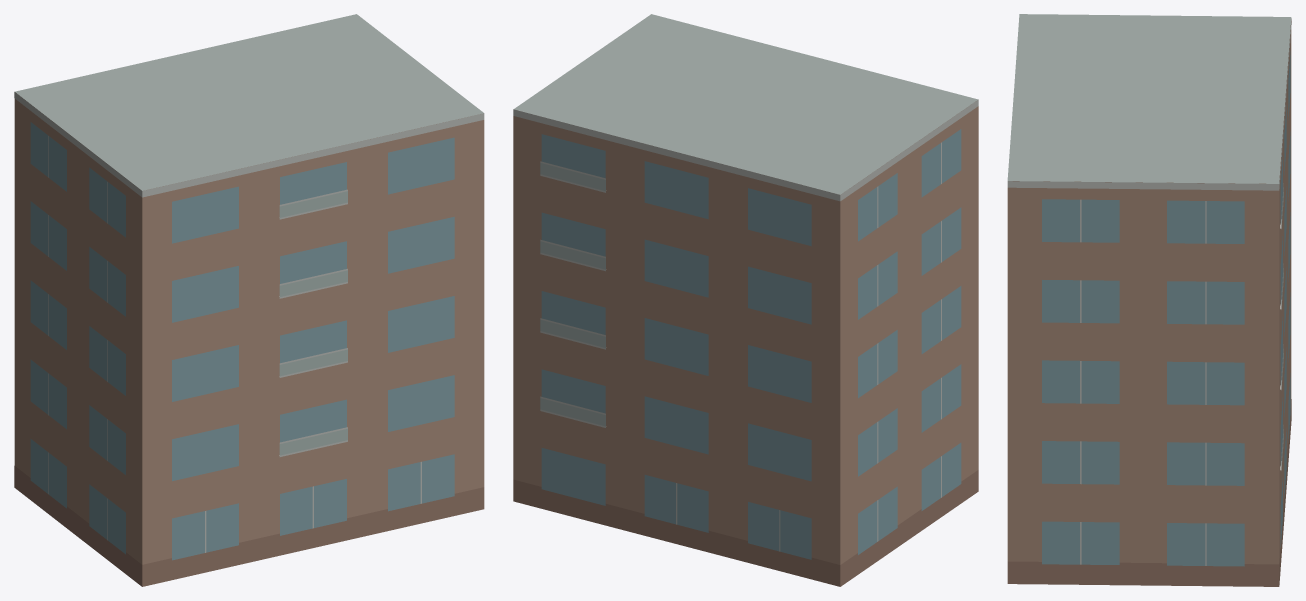
Rendered from survey-upis-32910277.glb.
The picture shows the model from 3 angles, left to right: view 1: azimuth 30°, elevation 25°; view 2: azimuth 150°, elevation 25°; view 3: azimuth 270°, elevation 25°; orthographic projection. The views are drawn at different scales.
Visible parts, largest first — view 1: survey-upis-32910277.tmp; view 2: survey-upis-32910277.tmp; view 3: survey-upis-32910277.tmp.
Part boxes in pixels (<box>): survey-upis-32910277.tmp: <box>14,14,484,586</box>; survey-upis-32910277.tmp: <box>513,14,978,586</box>; survey-upis-32910277.tmp: <box>1007,14,1291,586</box>.
Size of the model in its own units: 13.21 by 14.6 by 9.33.
